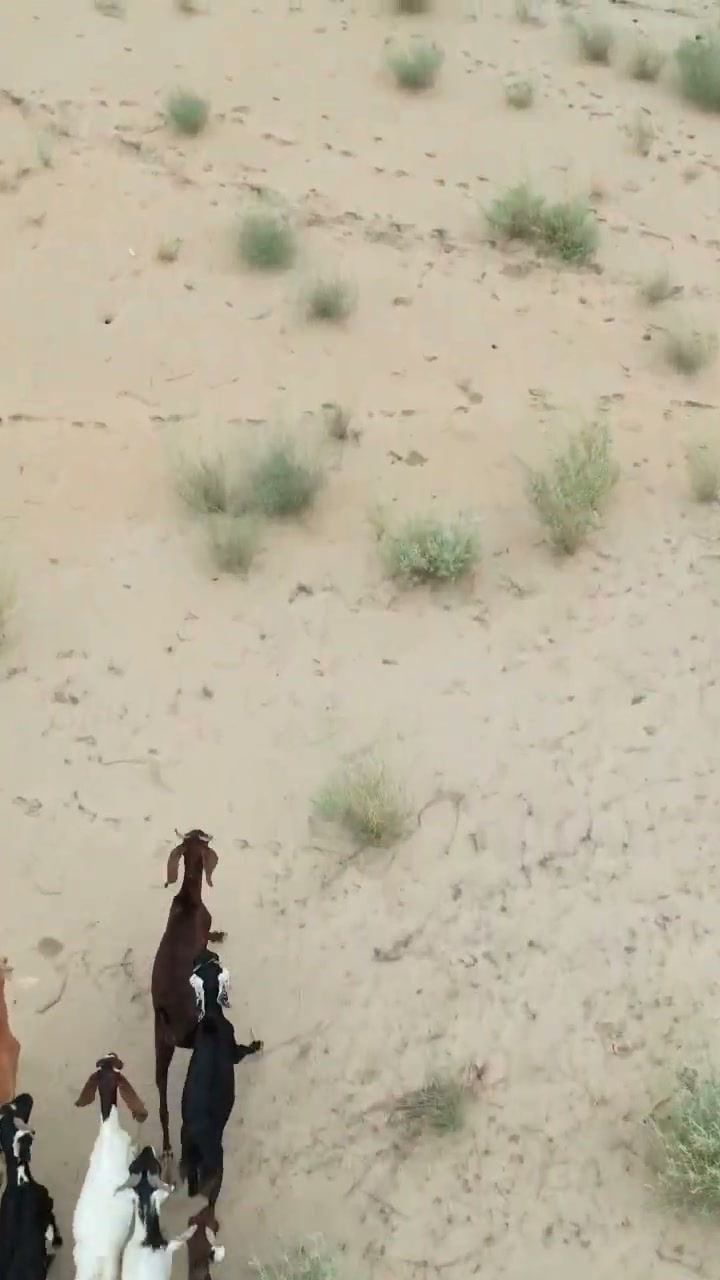animal_foot_print: (218, 1089, 364, 1274)
